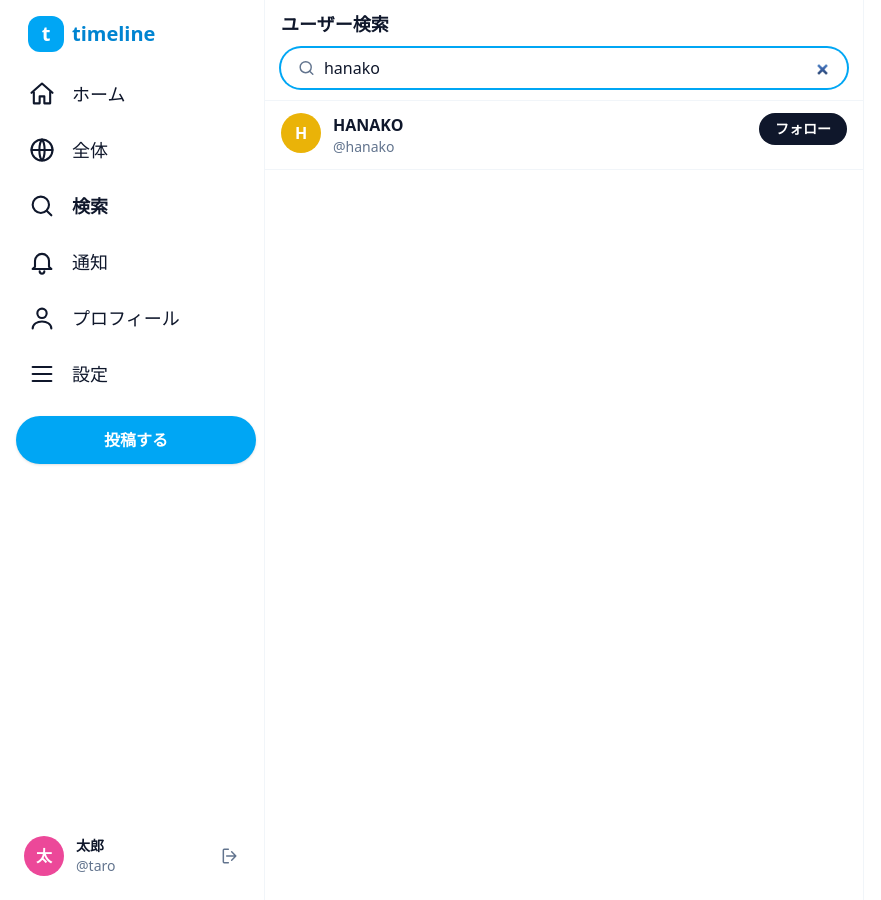
Test case: ユーザー検索 › 検索結果からフォローできる
Click the button with aria-label "@hanako をフォロー" at (803, 129), box [759,113,847,145]
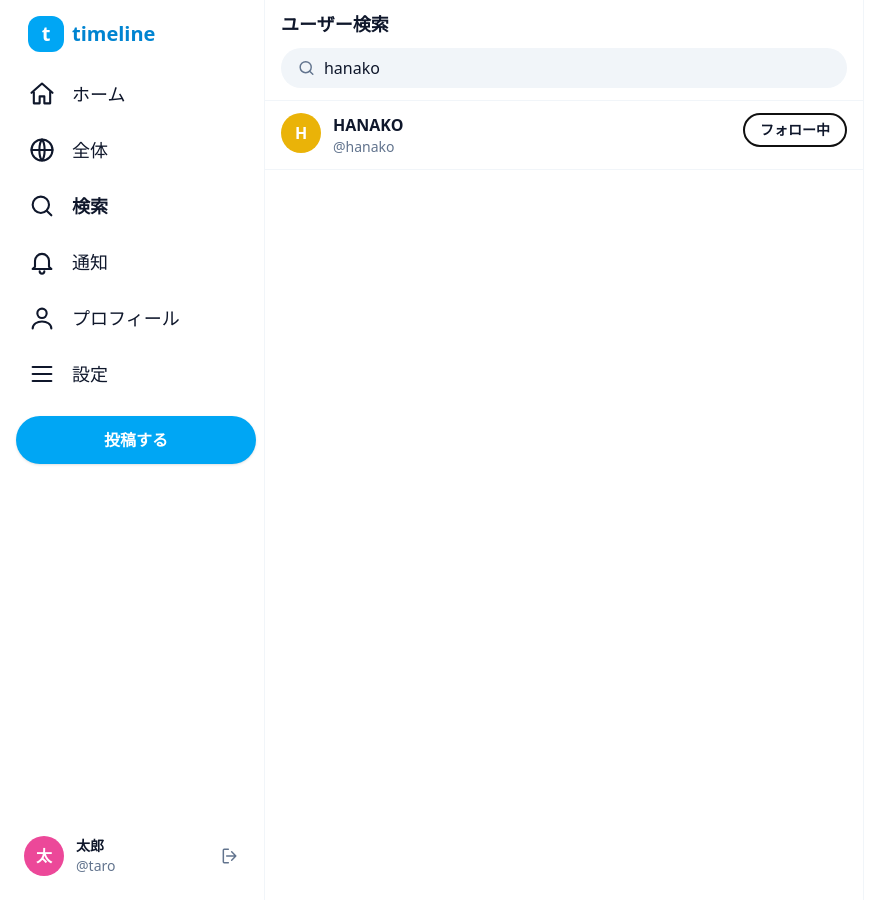
Check: the button with aria-label "@hanako のフォローを解除" is shown, box [743,113,847,147]
